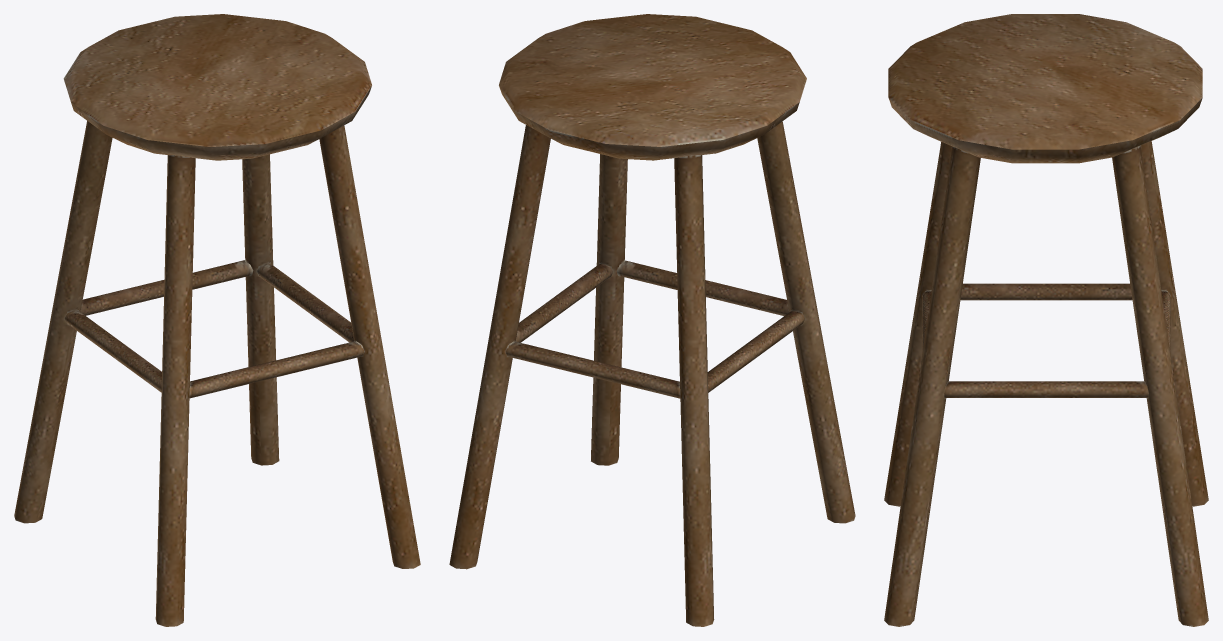
The model's file is chair.obj.
The picture shows the model from 3 angles, left to right: view 1: azimuth 30°, elevation 25°; view 2: azimuth 150°, elevation 25°; view 3: azimuth 270°, elevation 25°; orthographic projection. The views are drawn at different scales.
Parts seen in each view (by area): view 1: SM_Wooden_Chair; view 2: SM_Wooden_Chair; view 3: SM_Wooden_Chair.
Boxes of the visible parts, box(x1,y1,x2,y2) form: SM_Wooden_Chair: box(14, 14, 420, 626); SM_Wooden_Chair: box(449, 14, 855, 626); SM_Wooden_Chair: box(884, 14, 1208, 626).
Bounding box in the file's own units: 14.19 × 24.06 × 14.64.
1 material, 1 textured.
